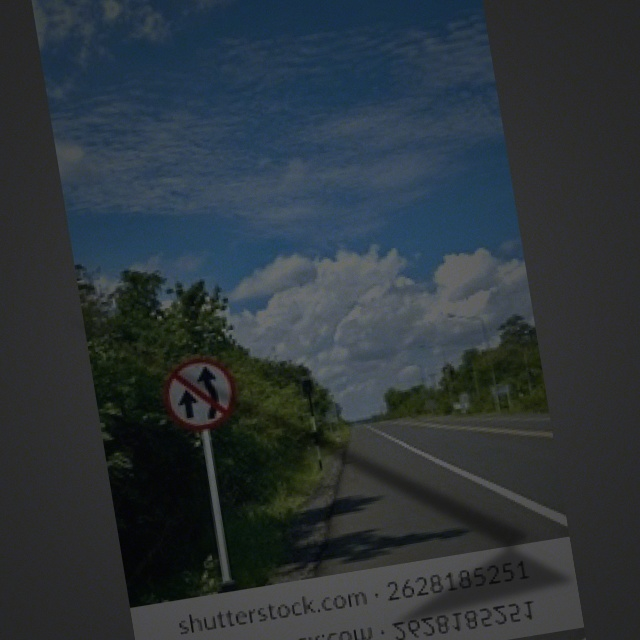Overtaking_Prohibited: (156, 354, 241, 435)
